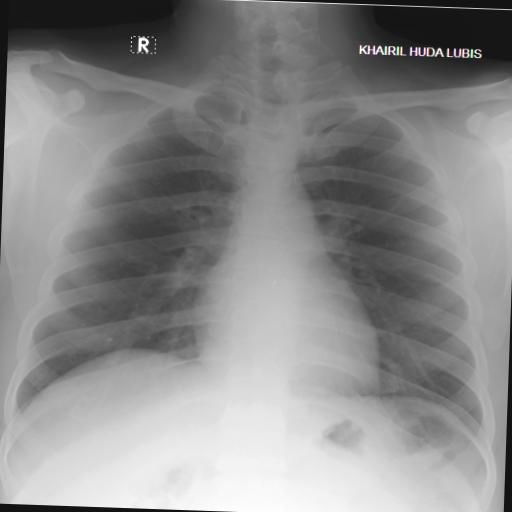normal: (3, 48, 508, 445)
